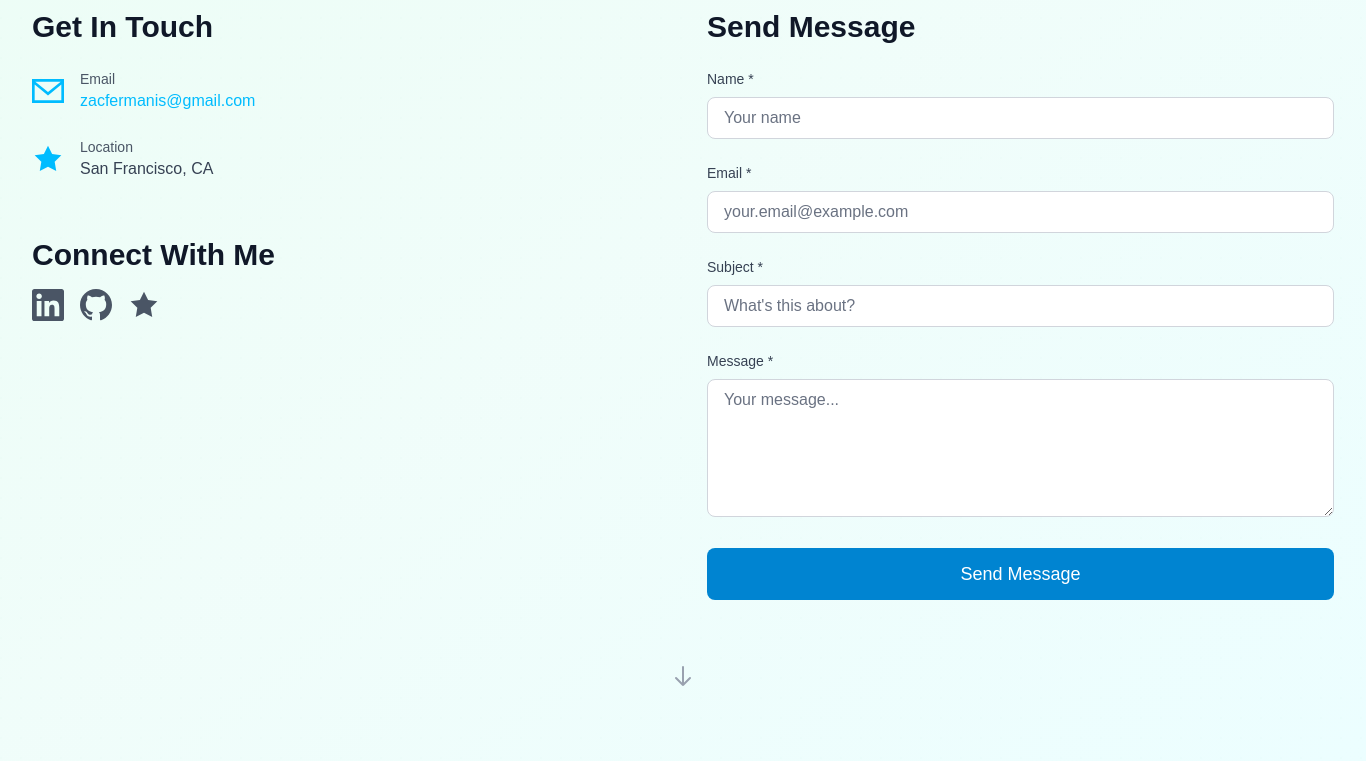
it: Contact › shows validation errors for empty fields
(page scrolled)
Click the button "Send Message" at (1020, 574), box [707, 548, 1334, 600]
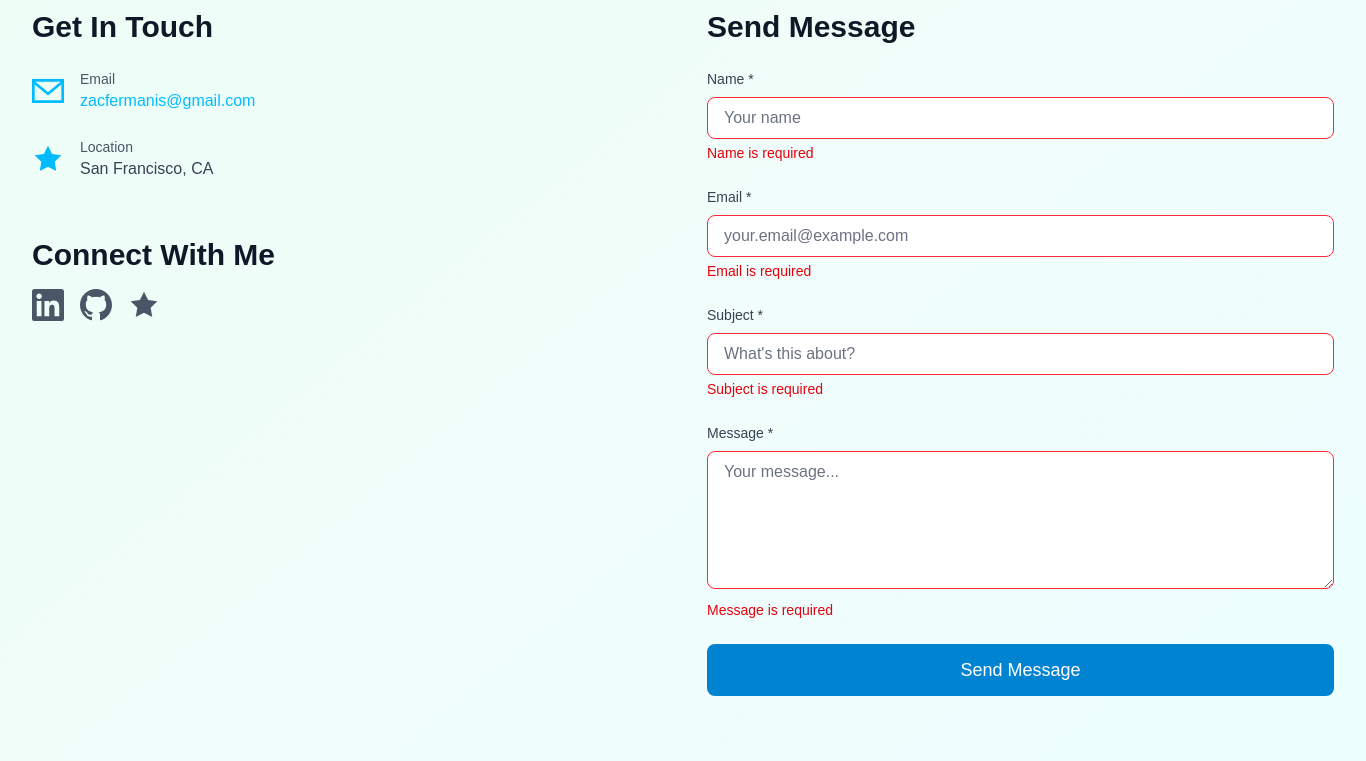
Now the text "Name is required" is shown, box [707, 145, 814, 161]
Now the text "Email is required" is shown, box [707, 263, 811, 279]
Now the text "Subject is required" is shown, box [707, 381, 823, 397]
